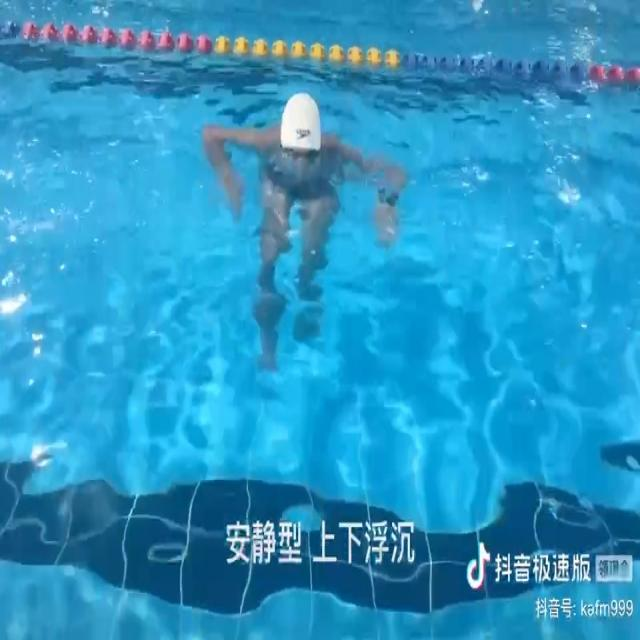Drowning: (200, 94, 409, 358)
